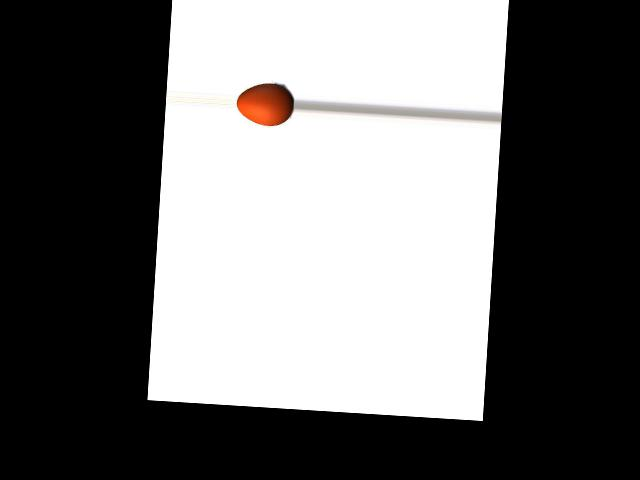egg: (236, 81, 294, 127)
